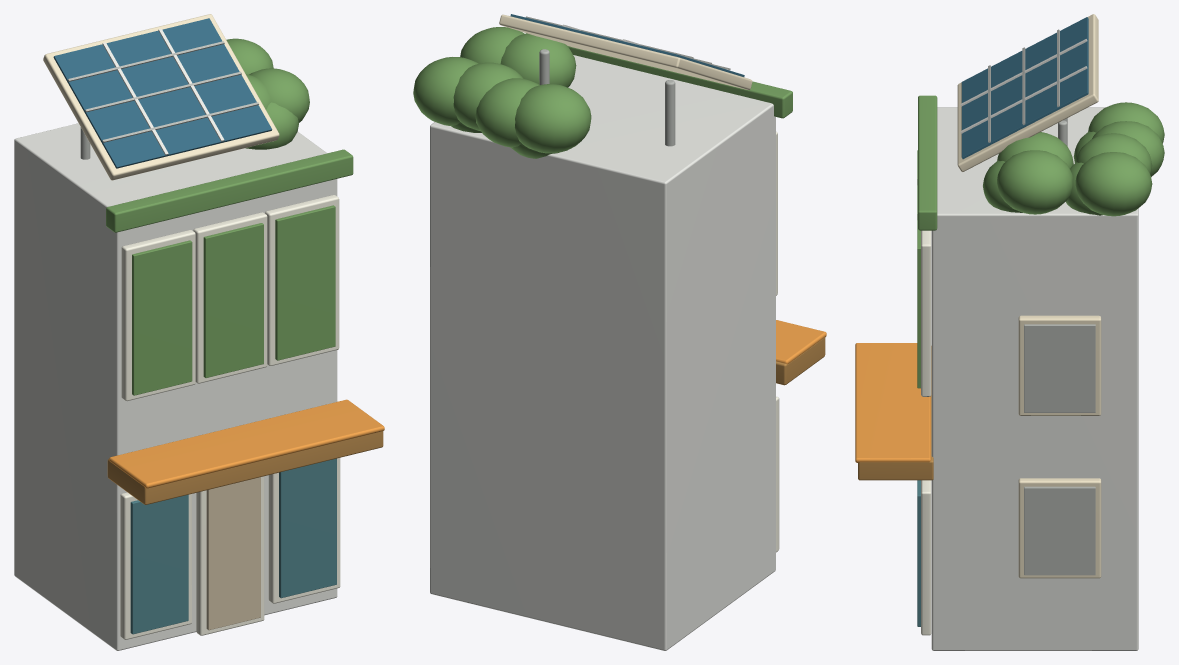
The model's file is asset04.glb.
The picture shows the model from 3 angles, left to right: view 1: azimuth 30°, elevation 25°; view 2: azimuth 150°, elevation 25°; view 3: azimuth 270°, elevation 25°; orthographic projection. The views are drawn at different scales.
Visible parts, largest first — view 1: 04_solar_townhouse; view 2: 04_solar_townhouse; view 3: 04_solar_townhouse.
Boxes of the visible parts, bbox=[...] form: 04_solar_townhouse: bbox=[14, 14, 384, 650]; 04_solar_townhouse: bbox=[413, 14, 826, 650]; 04_solar_townhouse: bbox=[855, 14, 1164, 650].
Bounding box in the file's own units: 0.4918 × 1 × 0.5232.
